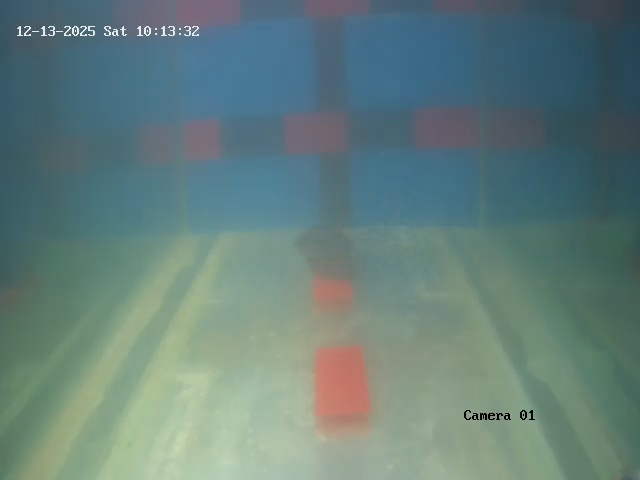fish: (292, 225, 375, 274)
